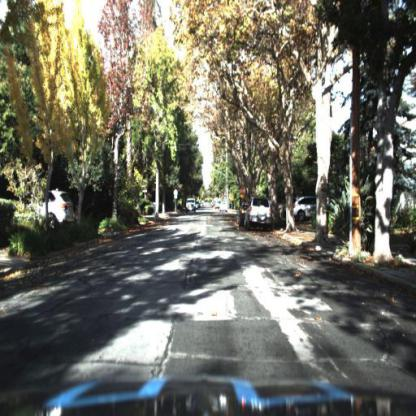car: (29, 189, 76, 228), (288, 192, 331, 224), (246, 198, 276, 235), (237, 201, 249, 231), (186, 195, 199, 216), (219, 197, 231, 216)
